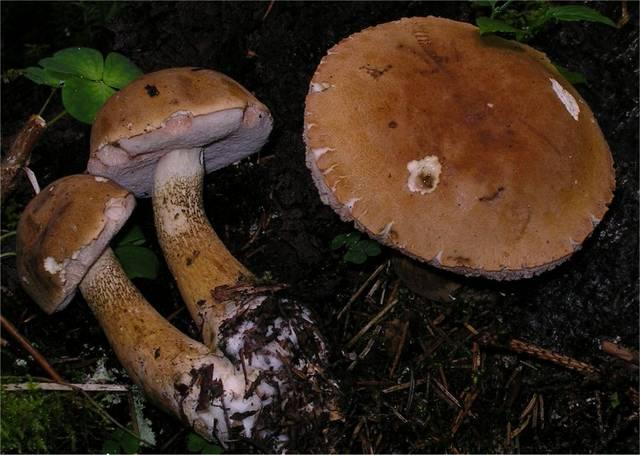Non-edible Mushroom: (15, 63, 336, 422), (301, 13, 617, 295)
